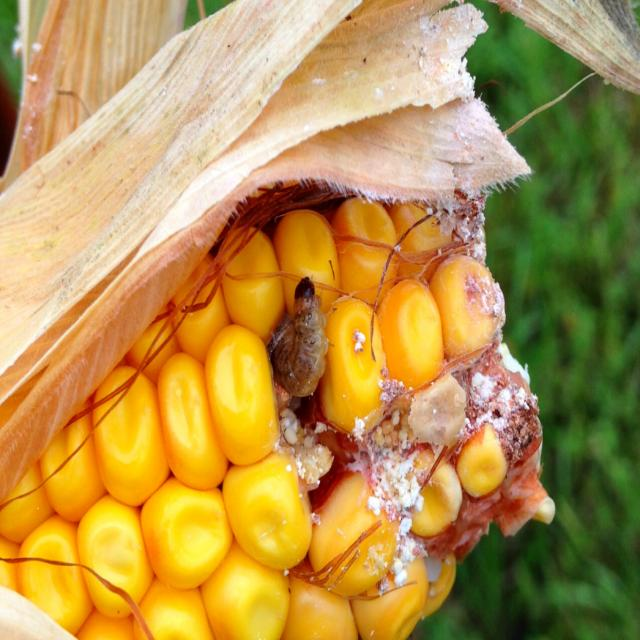cornborer-Larva-: (252, 262, 340, 418)
